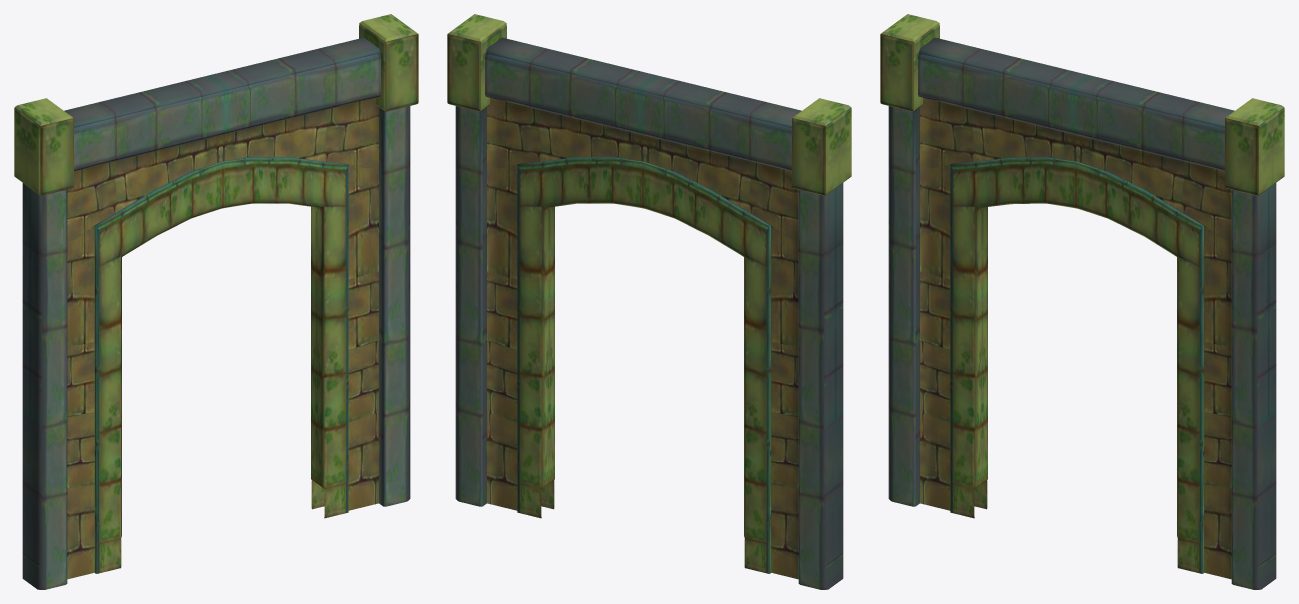
File: SM_Doorway.fbx
3 views of the same model, side by side, from view 1: azimuth 30°, elevation 25°; view 2: azimuth 150°, elevation 25°; view 3: azimuth 330°, elevation 25° (orthographic).
Visible parts, largest first — view 1: SM_Doorway; view 2: SM_Doorway; view 3: SM_Doorway.
Boxes of the visible parts, x1,y1,x2,y2 form: SM_Doorway: (14, 14, 418, 589); SM_Doorway: (447, 14, 851, 589); SM_Doorway: (880, 14, 1284, 589).
Bounding box in the file's own units: 607 × 718 × 73.46.
